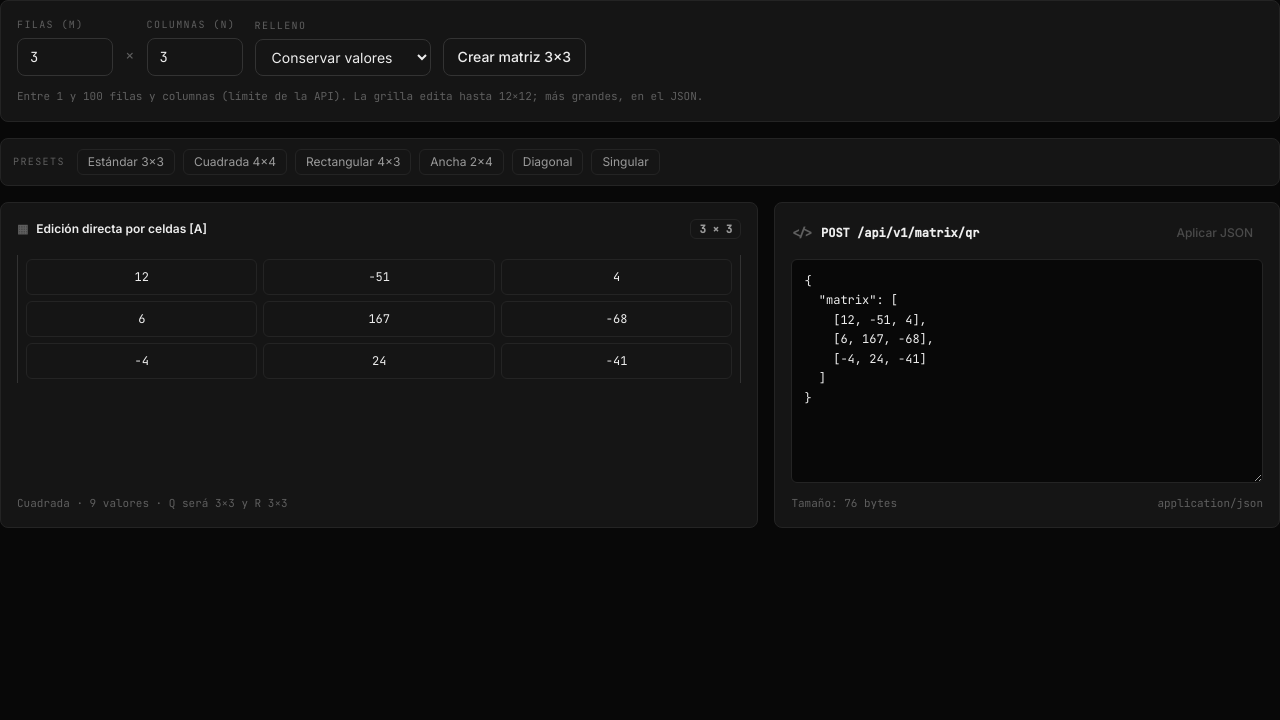
Test: MatrixEditorComponent (matriz personalizada) › valida el rango 1..100 y deshabilita el botón de crear
Step 1. Replace the text in the number field named "Número de filas" with "101" → (65, 57), box [17,38,113,76]
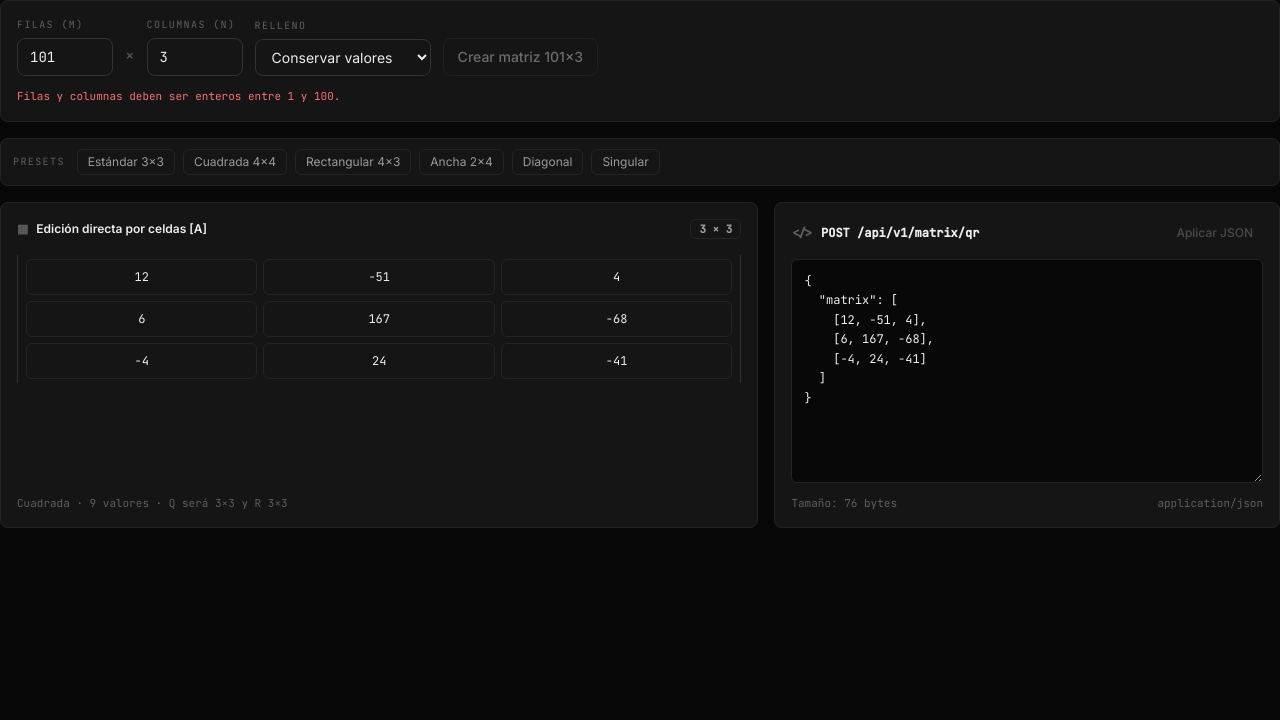
Expected: the message "Filas y columnas deben ser enteros entre 1 y 100." is shown, [17,89,340,103]
Expected: the submit button is disabled, [443,38,598,76]
